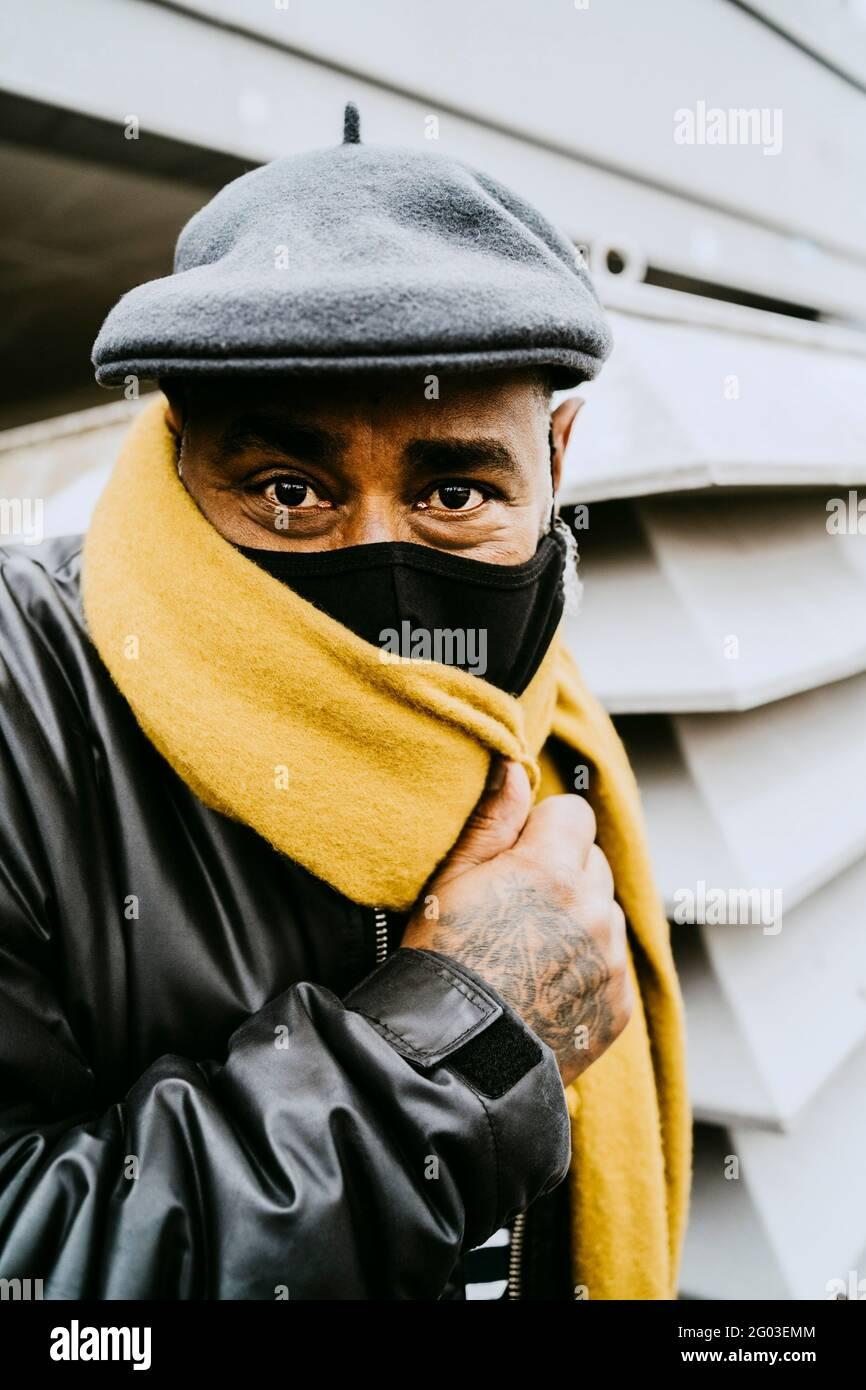cap: (70, 123, 667, 407)
mask: (170, 507, 660, 817)
